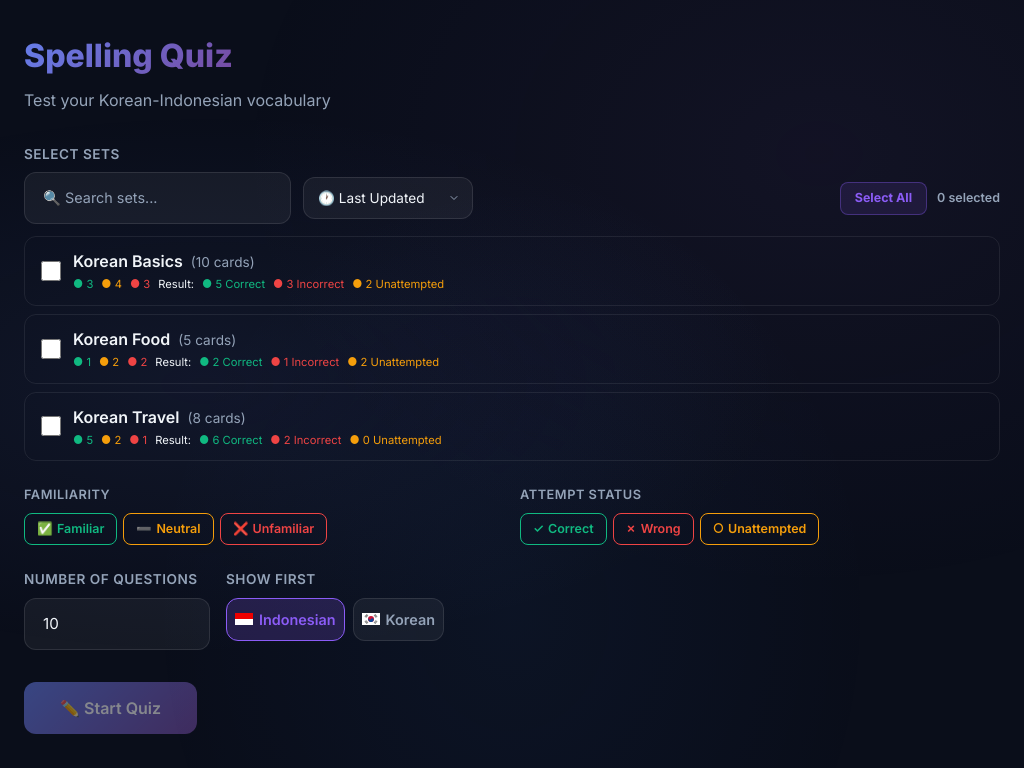
it: SpellingQuiz › Setup screen › selected count updates correctly
Expected: the text "Korean Basics" is shown, [73,251,183,271]
Expected: the text "0 selected" is shown, [937,189,1000,208]
Step 1. Click the 1st checkbox → (51, 271), box [41,261,61,281]
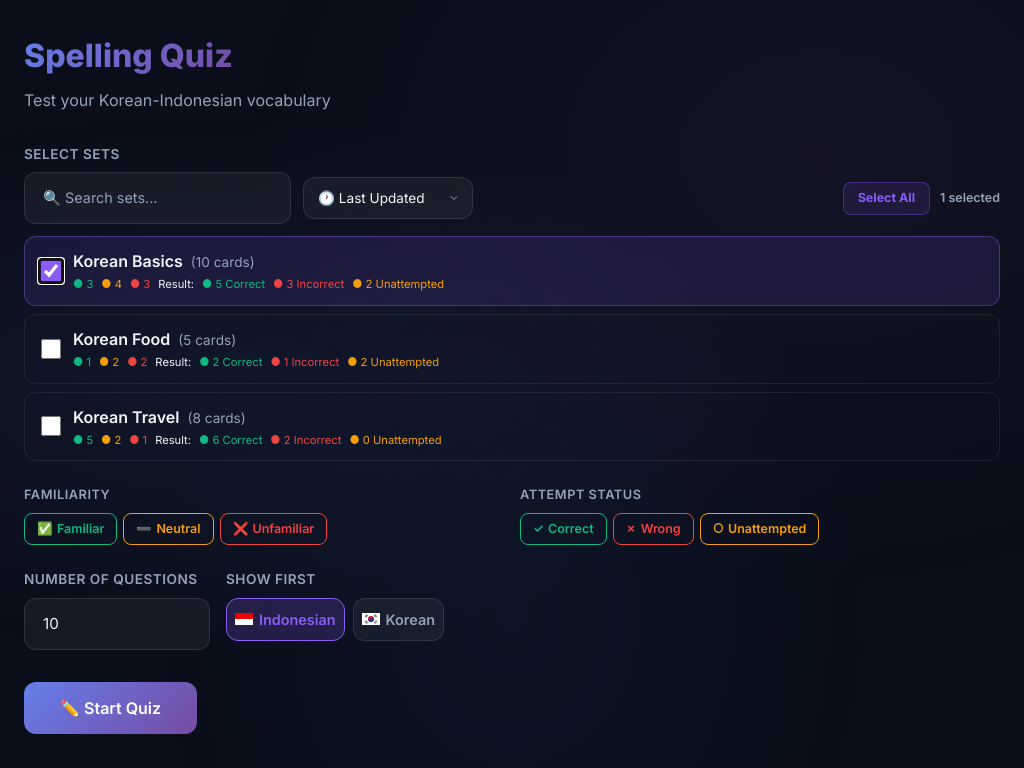
Expected: the text "1 selected" is shown, [940,189,1000,208]
Step 2. Click the 2nd checkbox → (51, 349), box [41,339,61,359]
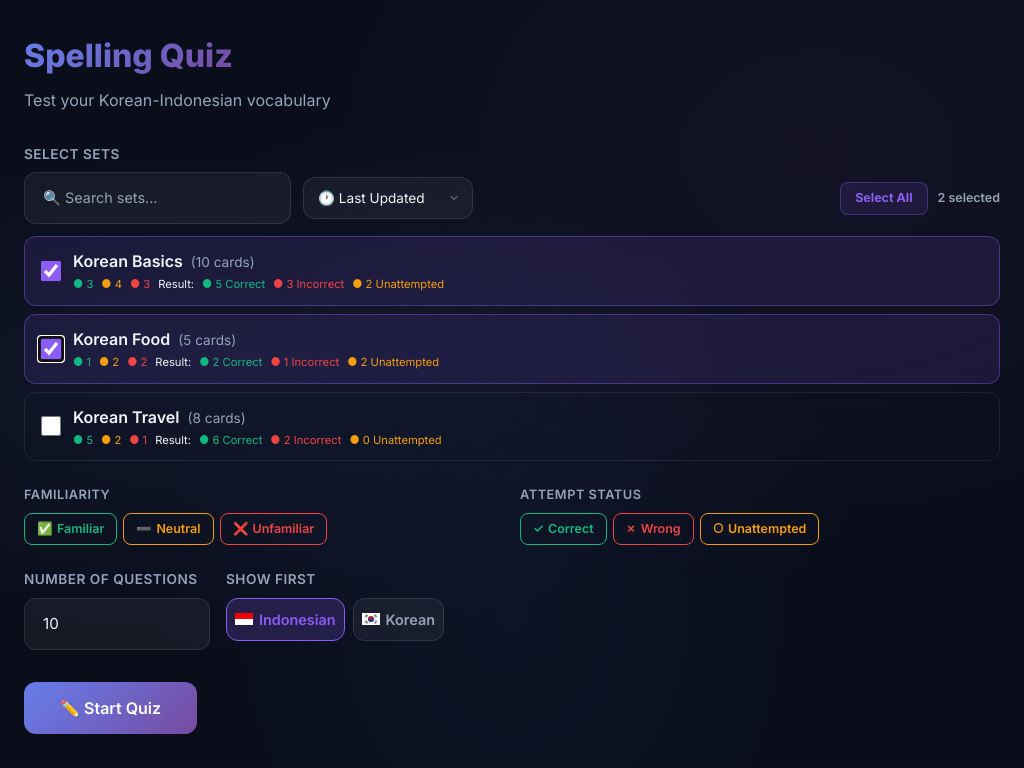
Expected: the text "2 selected" is shown, [938,189,1000,208]
